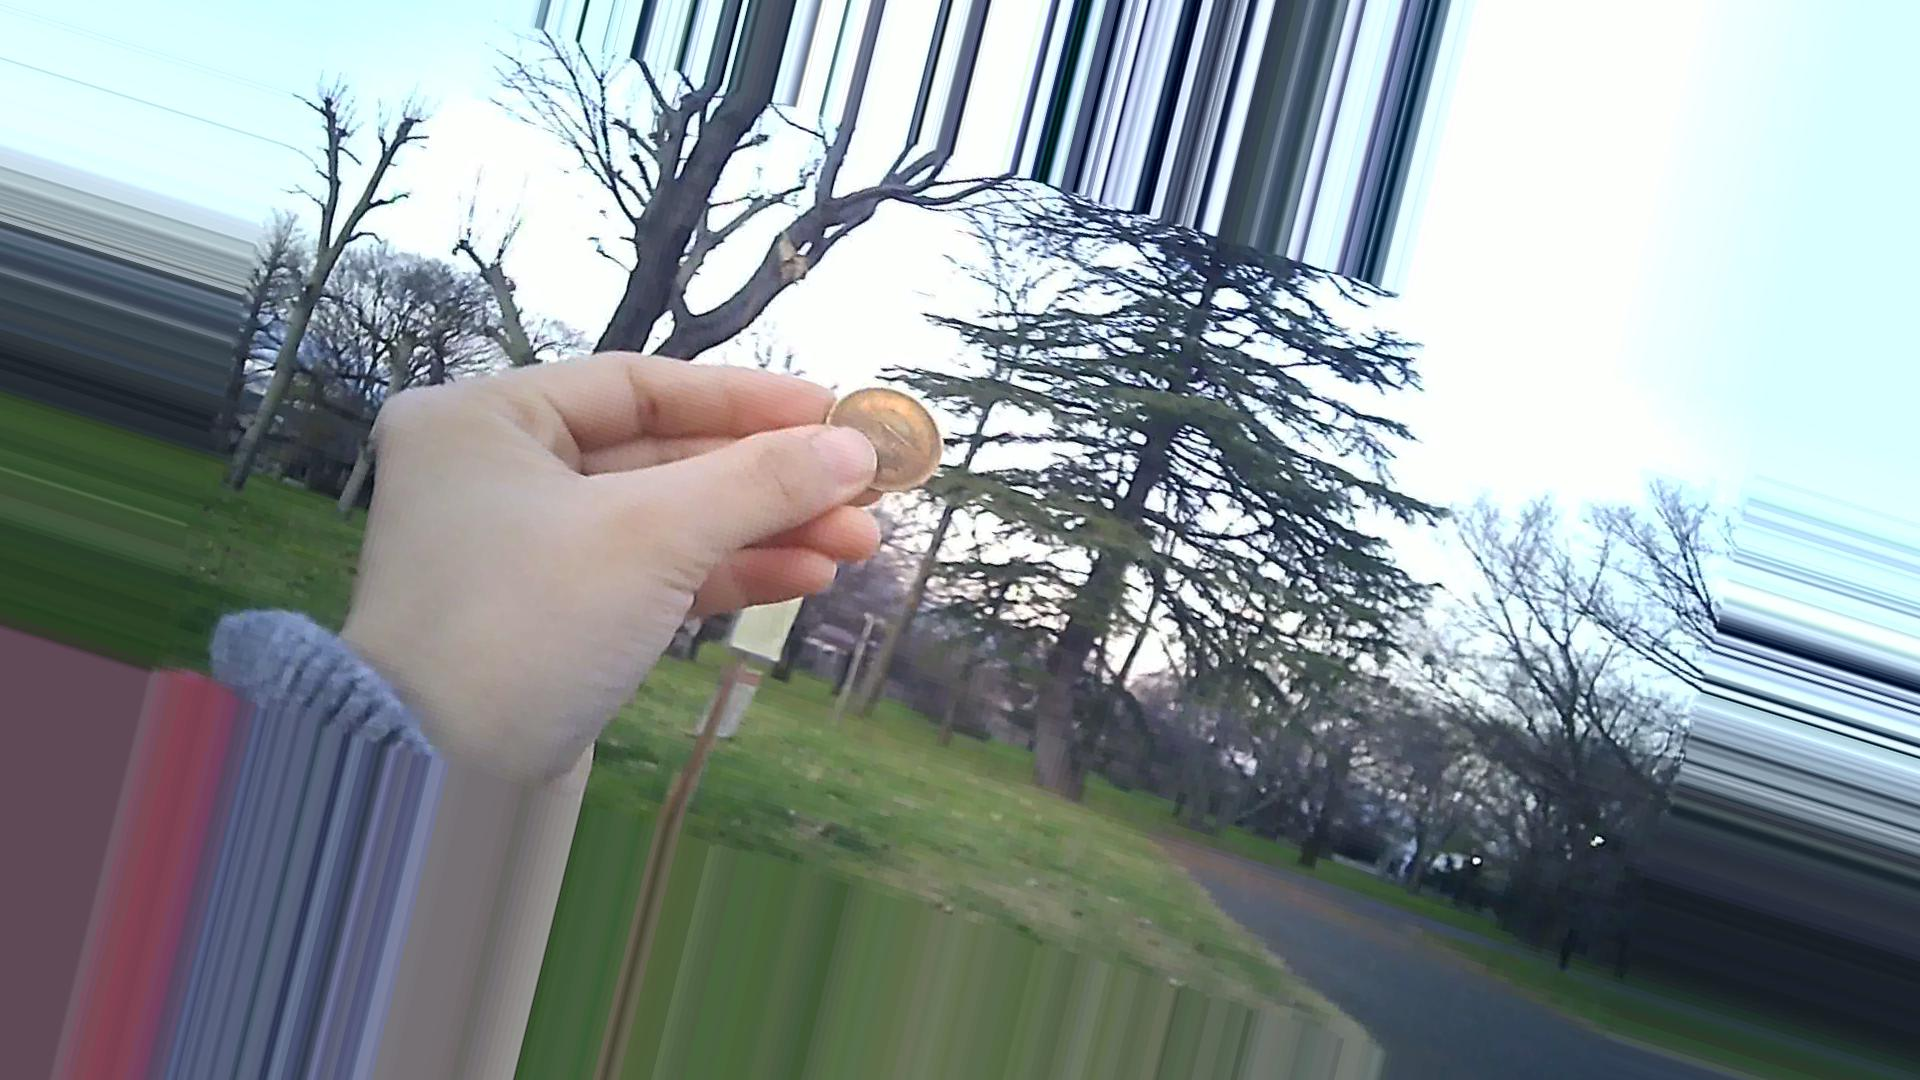10 Yen: (810, 373, 960, 502)
